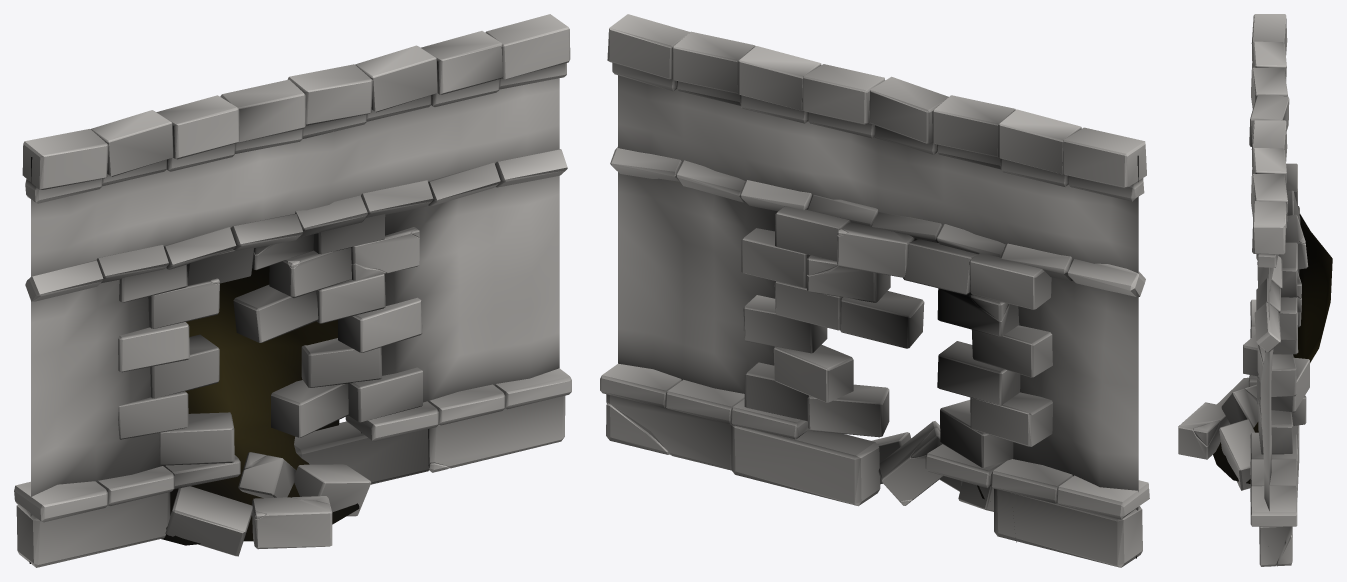
File: wall_bricksBroken.FBX
3 views of the same model, side by side, from view 1: azimuth 30°, elevation 25°; view 2: azimuth 150°, elevation 25°; view 3: azimuth 270°, elevation 25° (orthographic). The views are drawn at different scales.
Parts seen in each view (by area): view 1: wall_bricksBroken; view 2: wall_bricksBroken; view 3: wall_bricksBroken.
Part boxes in pixels (x1,y1,x2,y2): wall_bricksBroken: [14, 14, 571, 567]; wall_bricksBroken: [600, 14, 1149, 567]; wall_bricksBroken: [1178, 14, 1332, 566].
Bounding box in the file's own units: 8.06 × 6.23 × 2.46.
